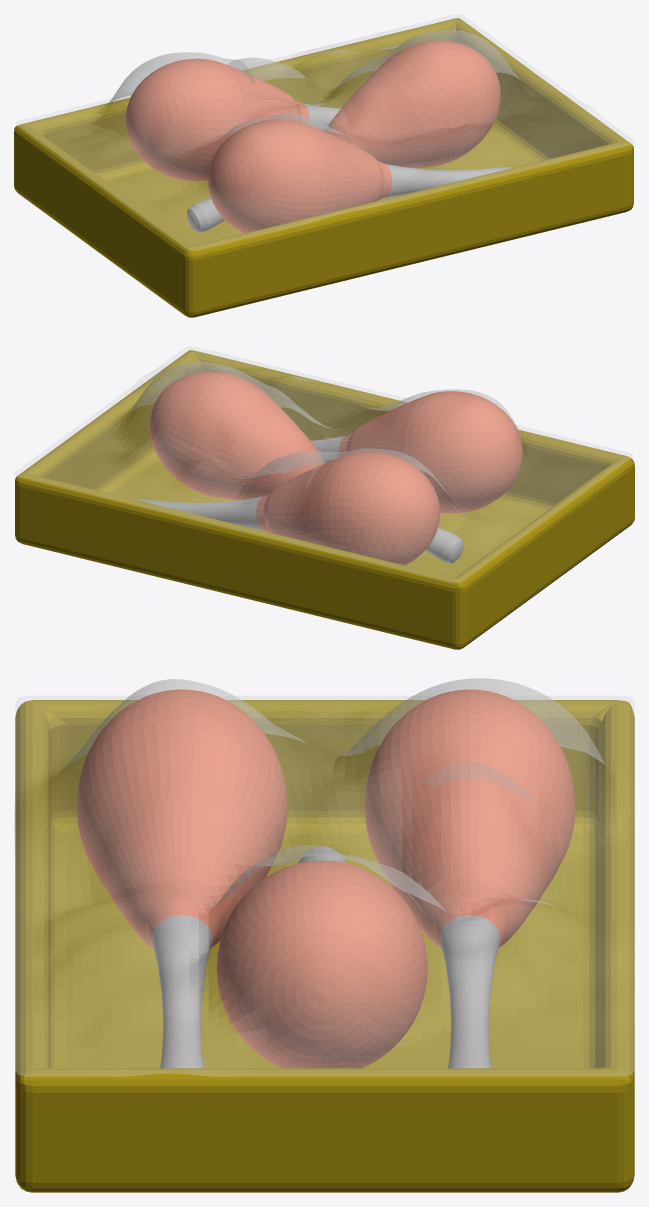
The model's file is Пачка куриных ножек.fbx.
The picture shows the model from 3 angles, top to bottom: view 1: azimuth 30°, elevation 25°; view 2: azimuth 150°, elevation 25°; view 3: azimuth 270°, elevation 25°; orthographic projection. The views are drawn at different scales.
Parts seen in each view (by area): view 1: Cube.002; view 2: Cube.002; view 3: Cube.002.
Boxes of the visible parts, <box> form: Cube.002: <box>14,14,634,317</box>; Cube.002: <box>14,346,634,649</box>; Cube.002: <box>14,678,634,1192</box>.
Size of the model in its own units: 82.83 by 24.36 by 56.75.
